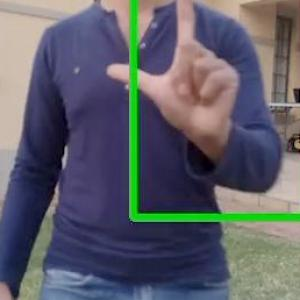land_hand: (100, 0, 248, 148)
